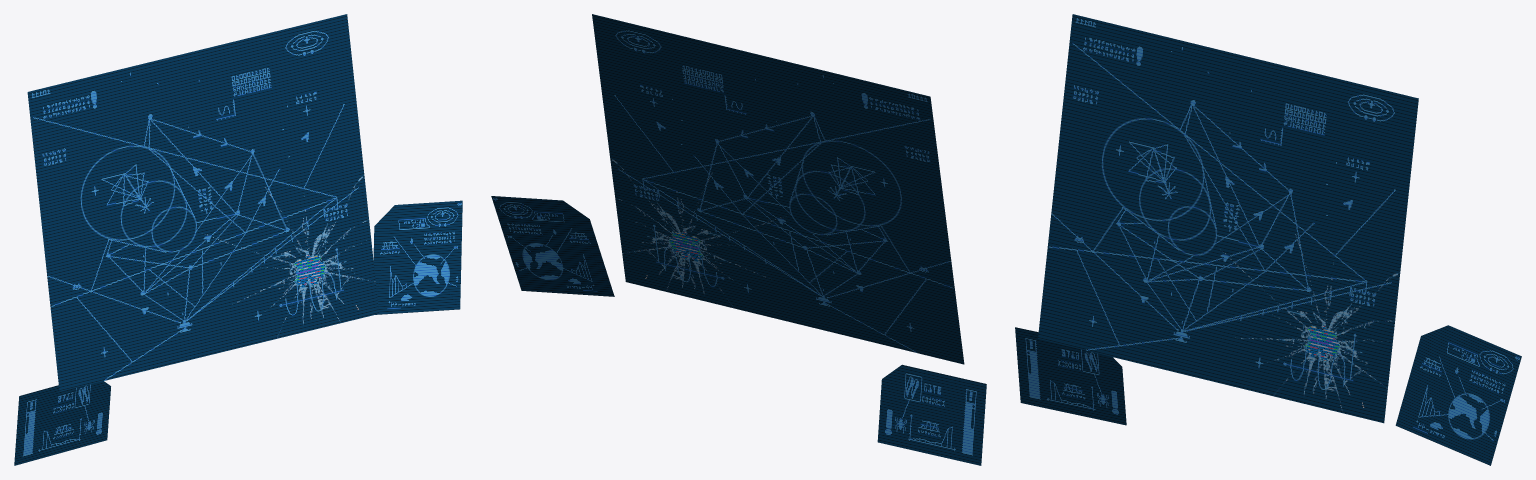
Rendered from Navigation Screens.fbx.
The picture shows the model from 3 angles, left to right: view 1: azimuth 30°, elevation 25°; view 2: azimuth 150°, elevation 25°; view 3: azimuth 330°, elevation 25°; orthographic projection. The views are drawn at different scales.
Parts seen in each view (by area): view 1: Navigation_B, Navigation_M, Navigation_s; view 2: Navigation_B, Navigation_M, Navigation_s; view 3: Navigation_B, Navigation_M, Navigation_s.
Boxes of the visible parts, left/top/right/bottom form: Navigation_B: left=27, top=14, right=379, bottom=391; Navigation_M: left=373, top=200, right=462, bottom=314; Navigation_s: left=14, top=381, right=110, bottom=465; Navigation_B: left=592, top=14, right=964, bottom=364; Navigation_M: left=491, top=196, right=614, bottom=296; Navigation_s: left=877, top=364, right=986, bottom=465; Navigation_B: left=1038, top=14, right=1418, bottom=423; Navigation_M: left=1395, top=325, right=1521, bottom=465; Navigation_s: left=1015, top=327, right=1126, bottom=425.
Bounding box in the file's own units: 221 × 164 × 26.87.
